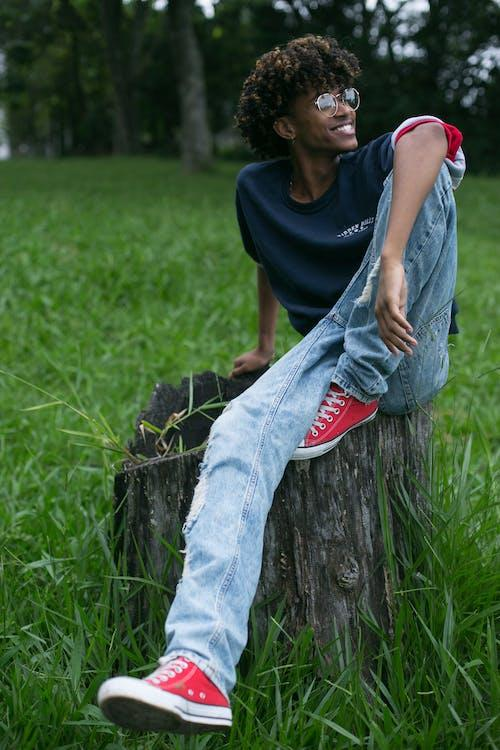eyeglasses: (296, 84, 378, 116)
